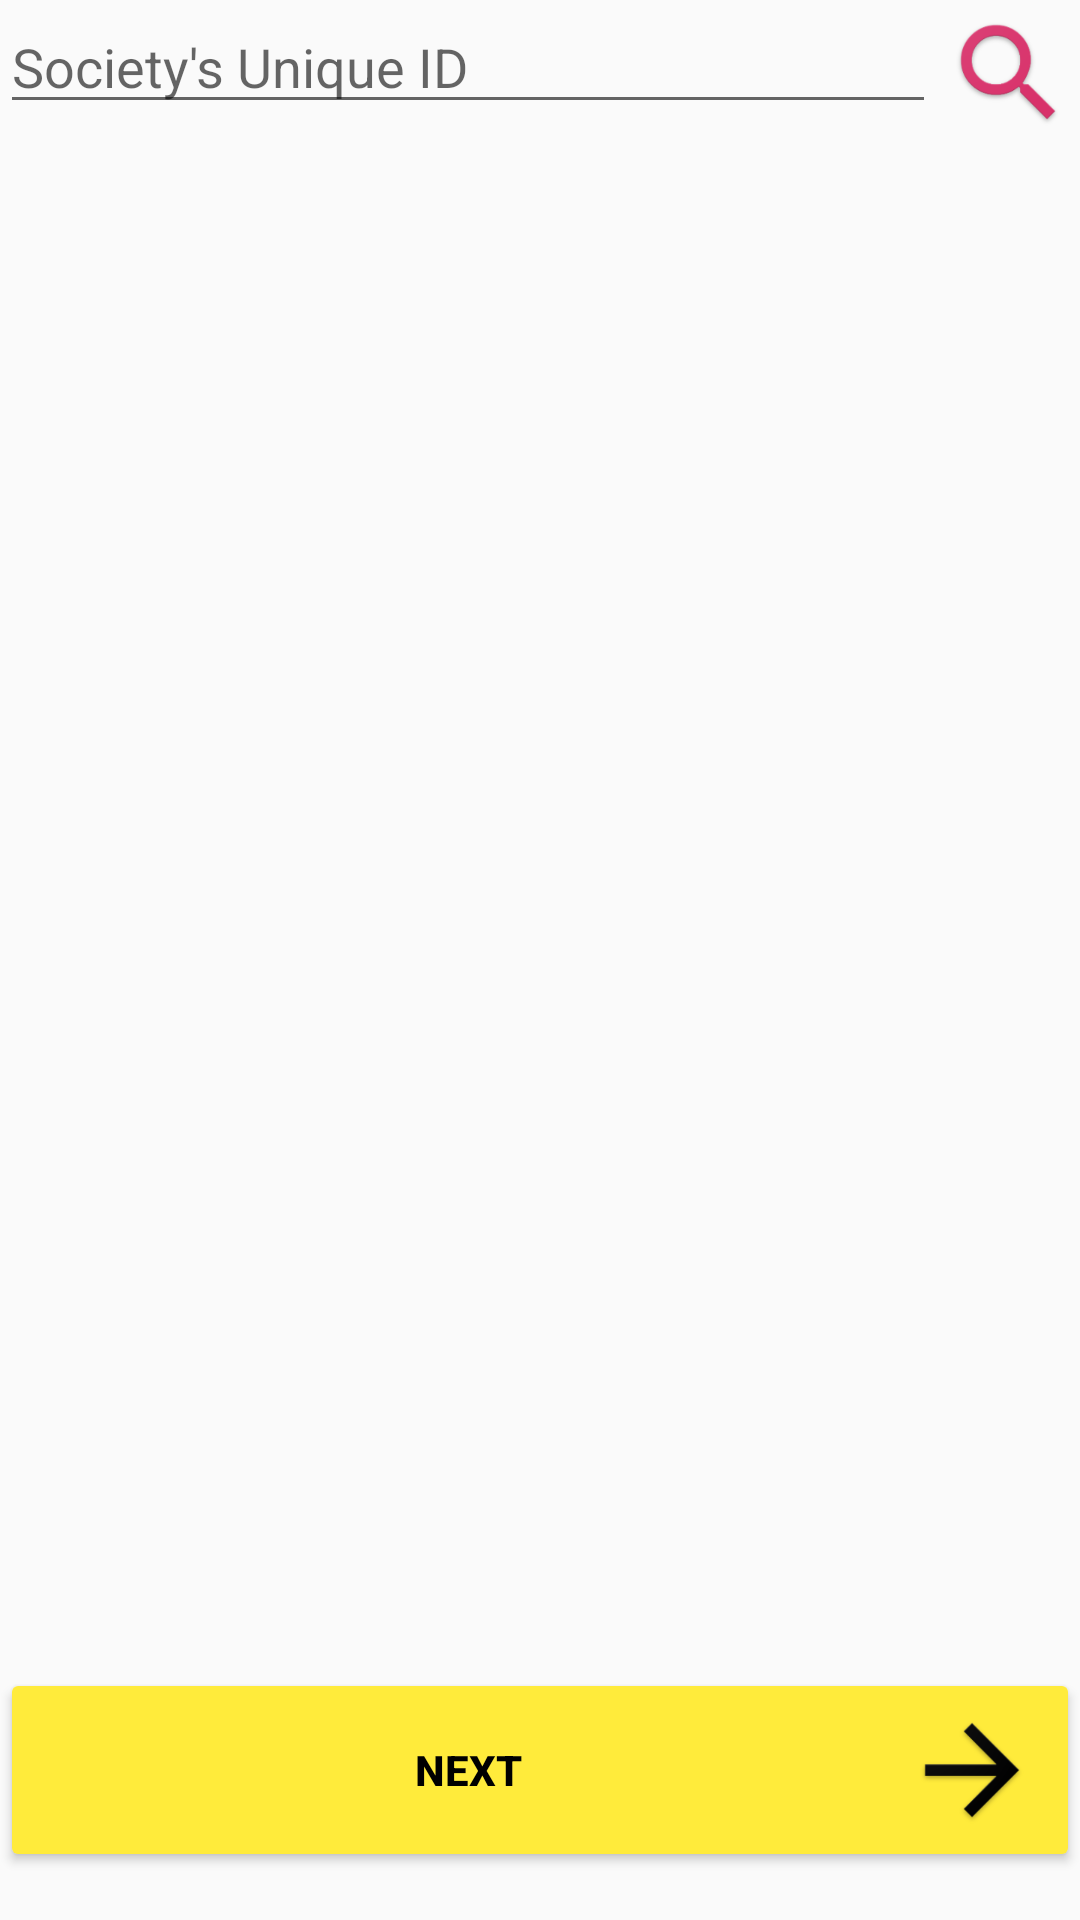

Icons on this 1080px x 1920px Android screen, each with the point to tap as (x,y):
search: (1008,72)
